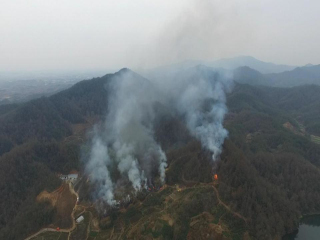smoke: (77, 4, 241, 206)
